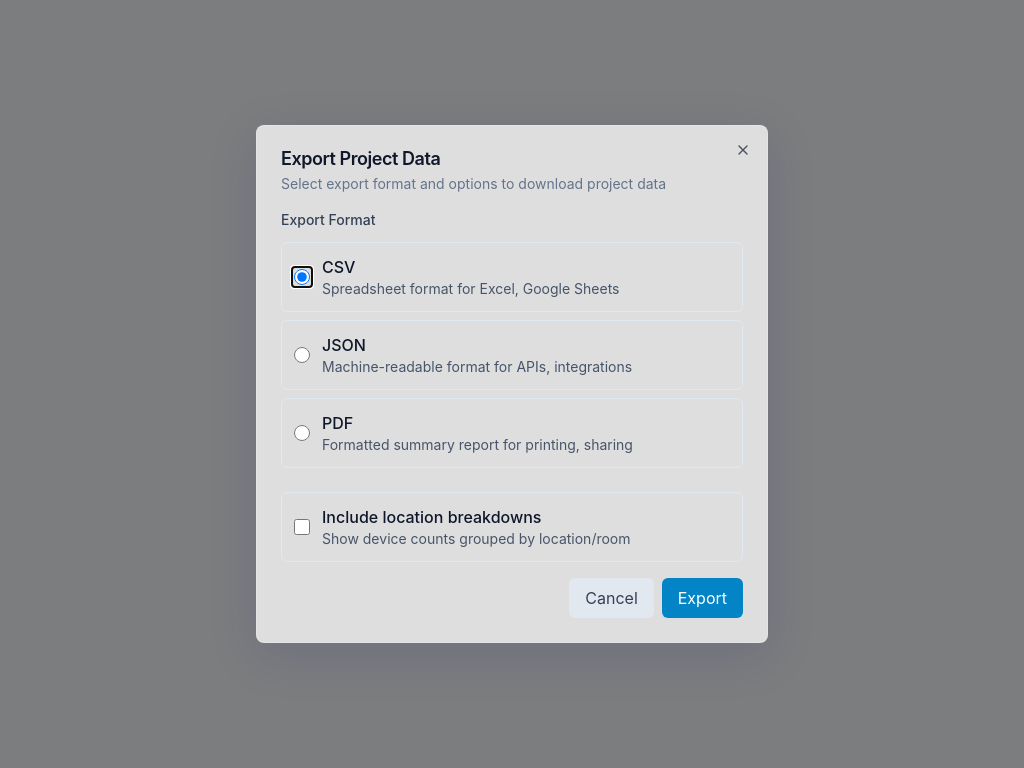
Scenario: ExportDialog › Export Errors › should display error message on export failure
The width and height of the screenshot is (1024, 768).
Click the button "Export" at (702, 598), box x1=662 y1=578 x2=743 y2=618
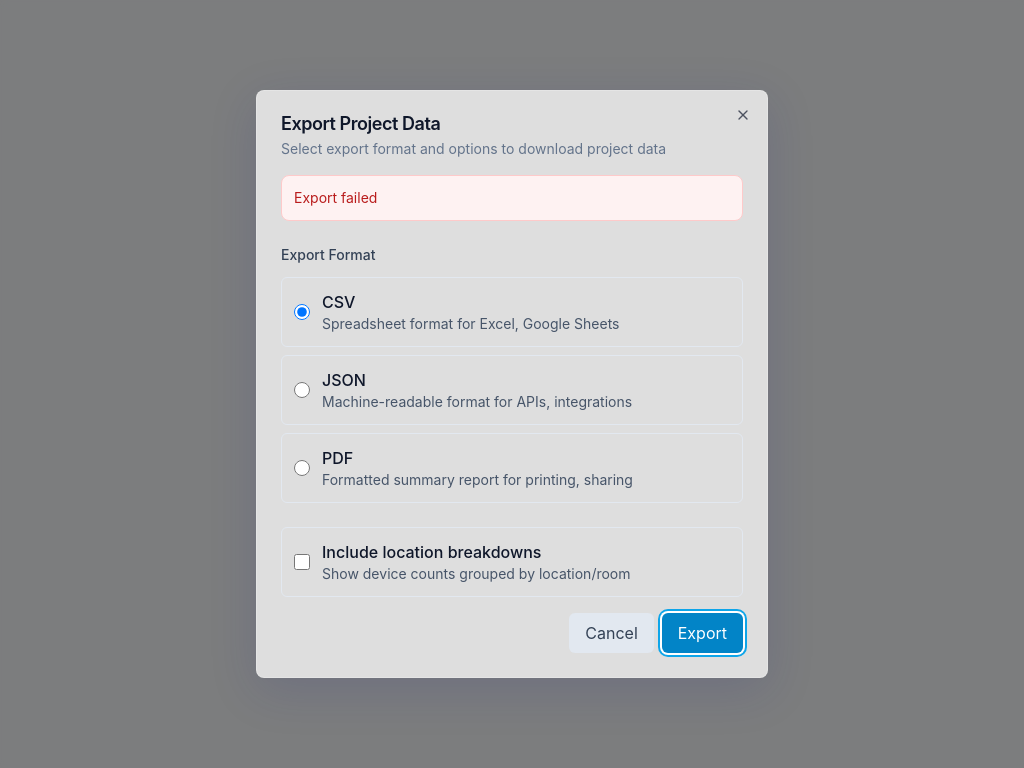
Expected: the text "Export failed" is shown, x1=281 y1=175 x2=743 y2=221
